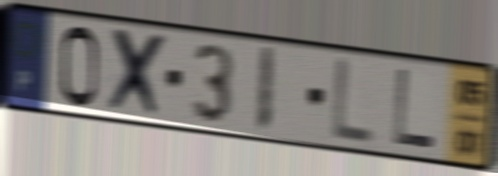0: (58, 23, 100, 110)
3: (190, 41, 236, 125)
I: (253, 43, 278, 137)
L: (329, 54, 376, 148), (391, 66, 438, 154)
X: (103, 24, 170, 124)
